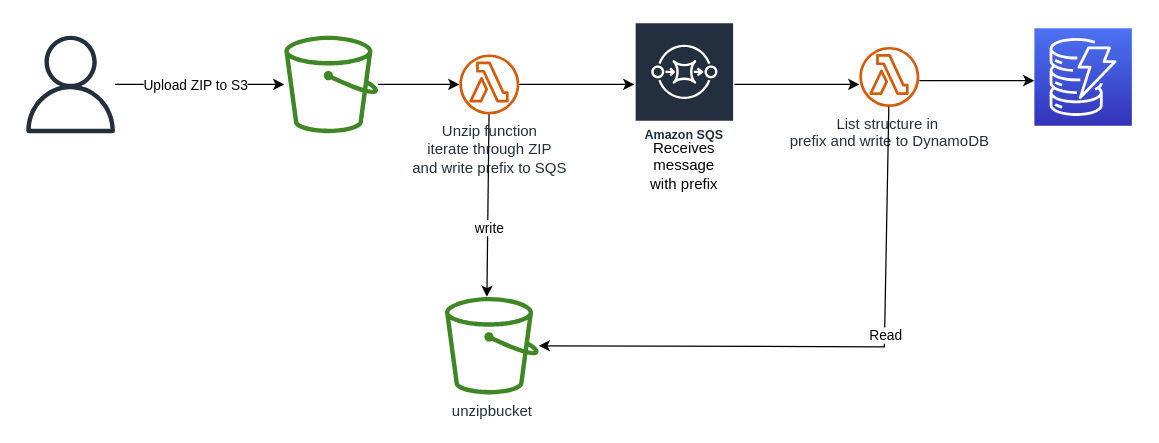
Image size: 1159x443. Some labels were removed from this diagram. The box of each missing label's shape, as (x1, y1, x2, y2) in pixels:
Create ProjectId file location list of objects: (1033, 27, 1132, 126)
uploadbucket: (284, 35, 378, 132)
